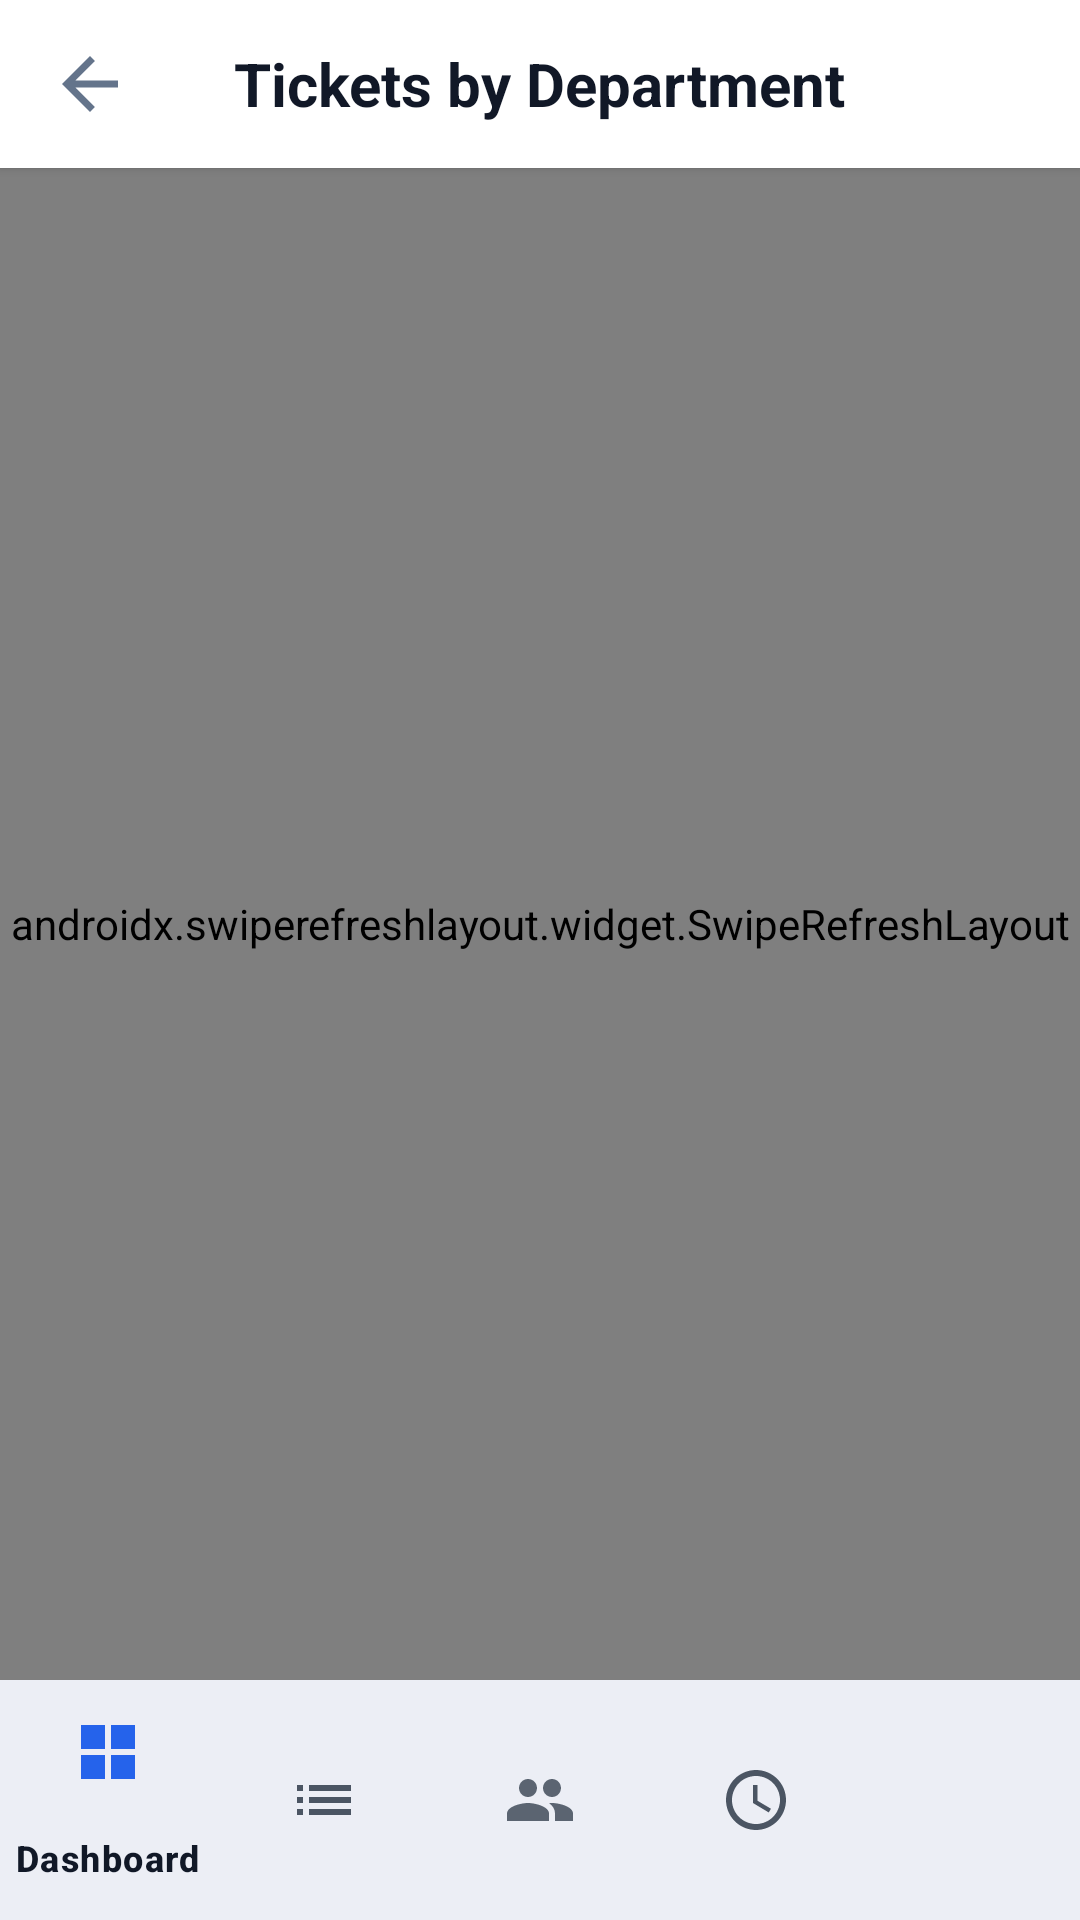

Icons on this 1080px×1920px Android screen, each with its box as (x1, y1, x2, y2):
Back: (62, 56, 118, 112)
